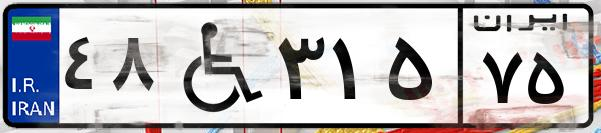1: (330, 28, 385, 110)
3: (270, 28, 330, 110)
4: (57, 26, 110, 100)
5: (385, 28, 445, 110), (525, 38, 570, 115)
7: (475, 38, 525, 113)
8: (110, 28, 158, 98)
ژ (معلولین و جانبازان): (158, 12, 270, 120)
